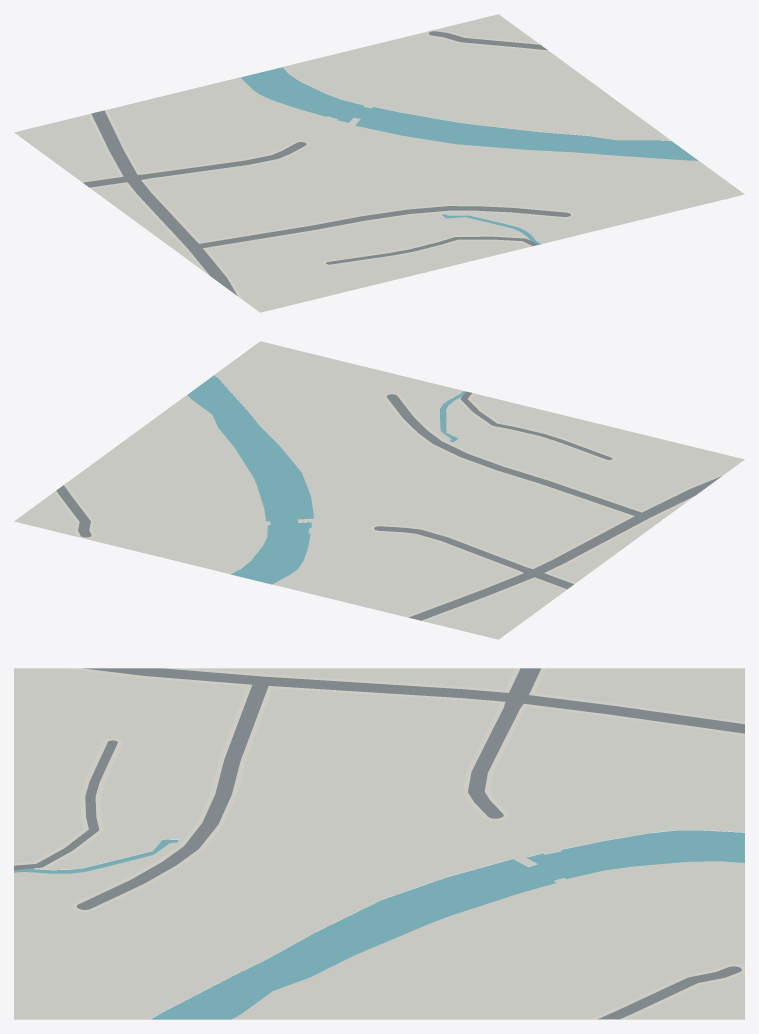
3 renders of one model, top to bottom at view 1: azimuth 30°, elevation 25°; view 2: azimuth 150°, elevation 25°; view 3: azimuth 270°, elevation 25°, orthographic. The views are drawn at different scales.
Parts seen in each view (by area): view 1: city; view 2: city; view 3: city.
Part boxes in pixels (box(x1,y1,x2,y2)): city: box(14, 14, 744, 312); city: box(14, 341, 744, 639); city: box(14, 668, 744, 1019).
Bounding box in the file's own units: 500 × 0.4 × 440.
